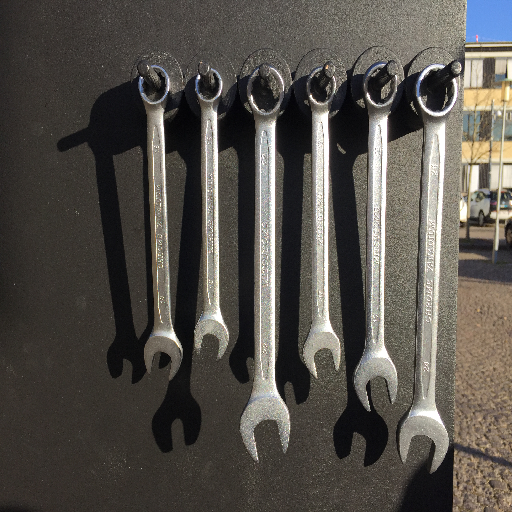bottom: (238, 391, 293, 462), (395, 407, 450, 475), (353, 351, 399, 412), (300, 326, 343, 378), (142, 330, 185, 381), (192, 312, 231, 361)
top: (412, 63, 461, 123), (245, 64, 286, 117), (362, 61, 400, 114), (135, 63, 173, 108), (304, 65, 339, 111), (193, 67, 226, 107)
